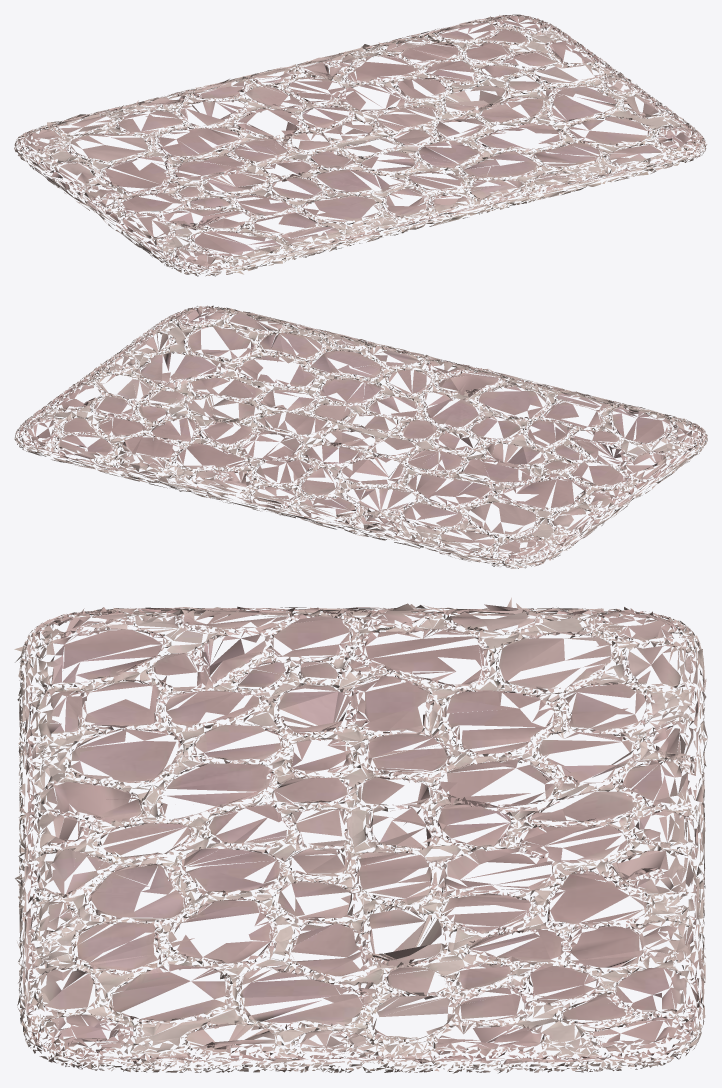
Rendered from mk2-vanity-mat.glb.
3 renders of one model, top to bottom at view 1: azimuth 30°, elevation 25°; view 2: azimuth 150°, elevation 25°; view 3: azimuth 270°, elevation 25°, orthographic. The views are drawn at different scales.
Visible parts, largest first — view 1: mesh_node; view 2: mesh_node; view 3: mesh_node.
Boxes of the visible parts, <box> form: mesh_node: <box>14,14,707,276</box>; mesh_node: <box>14,305,707,568</box>; mesh_node: <box>14,597,707,1073</box>.
Bounding box in the file's own units: 1.92 × 0.0555 × 1.22.
Materials: 1 (1 with a texture image).
